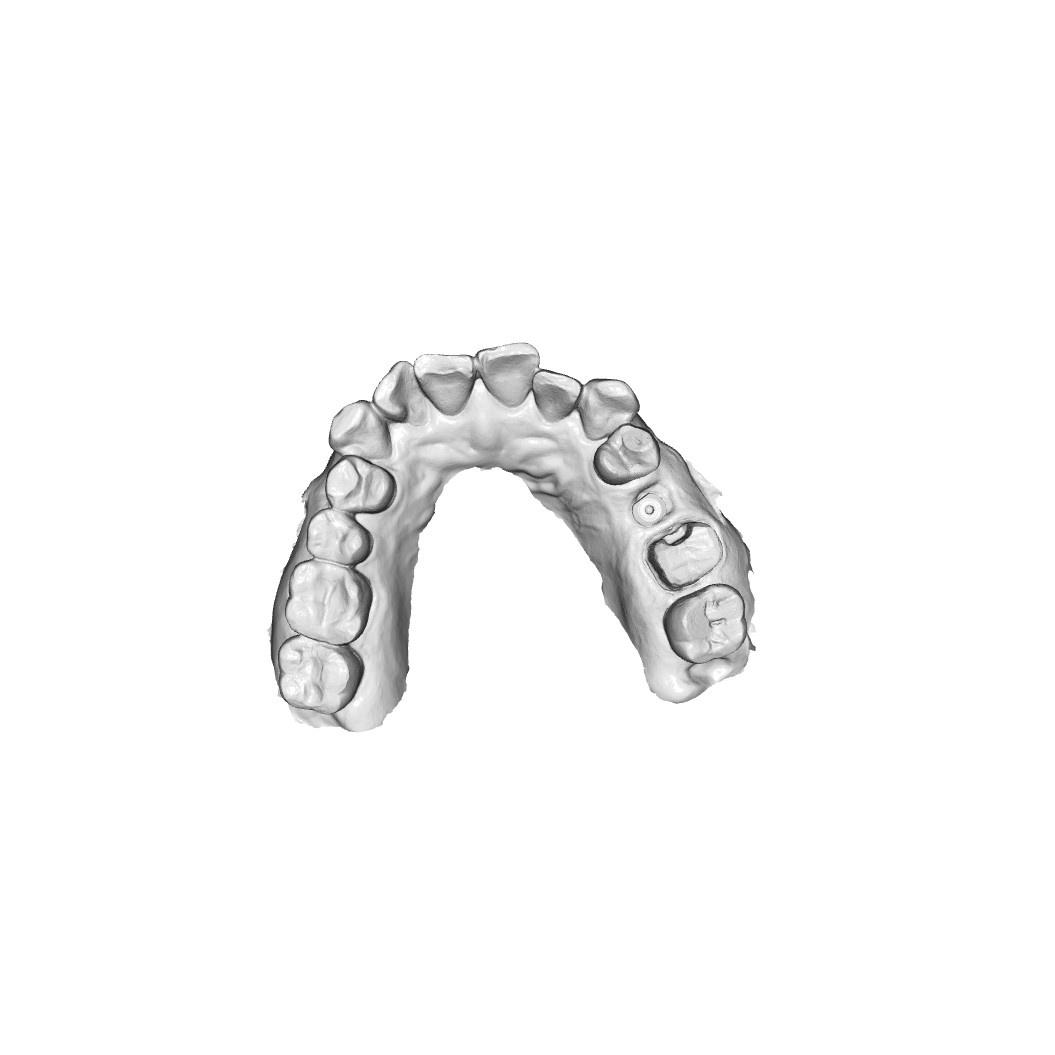canine: (325, 399, 392, 462), (577, 376, 639, 442)
crown: (644, 518, 727, 592)
implant: (631, 487, 668, 527)
incisor: (474, 340, 539, 410), (415, 352, 477, 415), (373, 359, 424, 420), (533, 370, 584, 424)
molar: (279, 559, 372, 648), (273, 636, 364, 717), (662, 582, 747, 666)
premolar: (592, 421, 664, 487), (324, 456, 397, 516), (308, 507, 375, 567)
